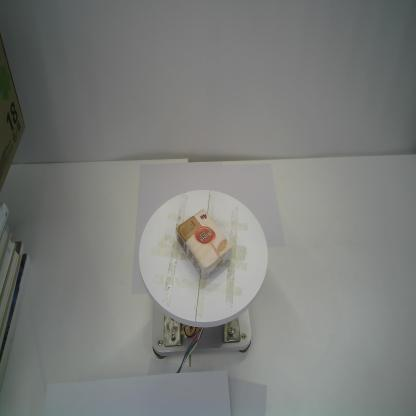Tissue: (175, 206, 234, 280)
